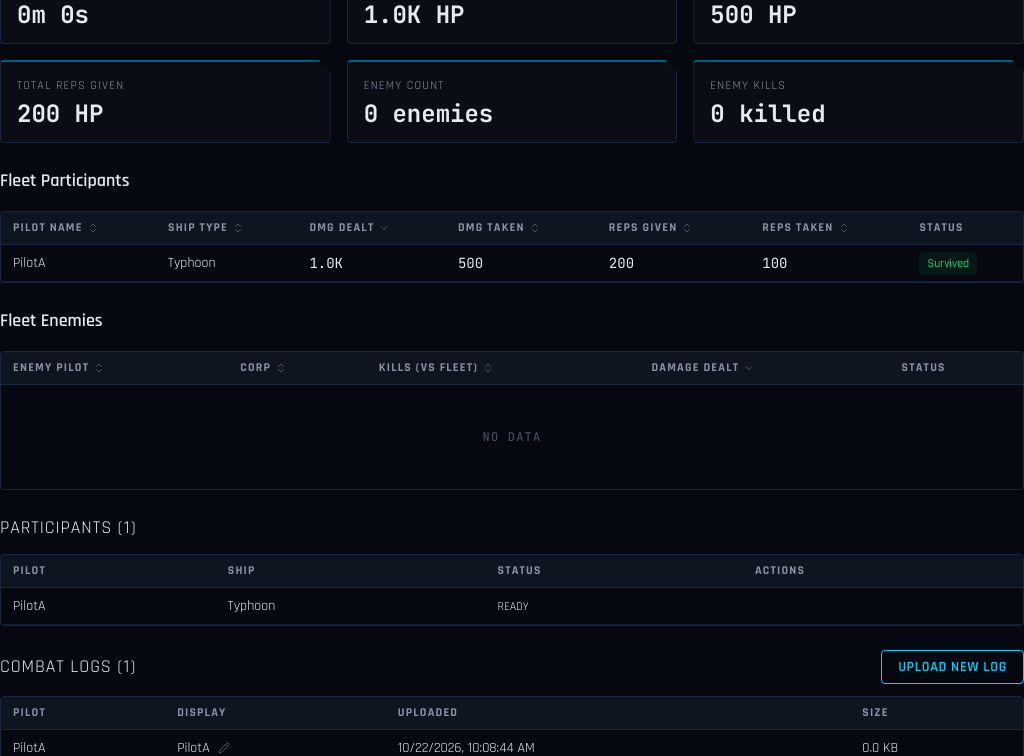
Test case: Fleet Navigation & Integration Tests › Session Detail Page Tests › shows upload form when button clicked
The image size is (1024, 756).
(page scrolled)
Click the button "Upload New Log".
click(953, 667)  # box [881, 650, 1023, 684]
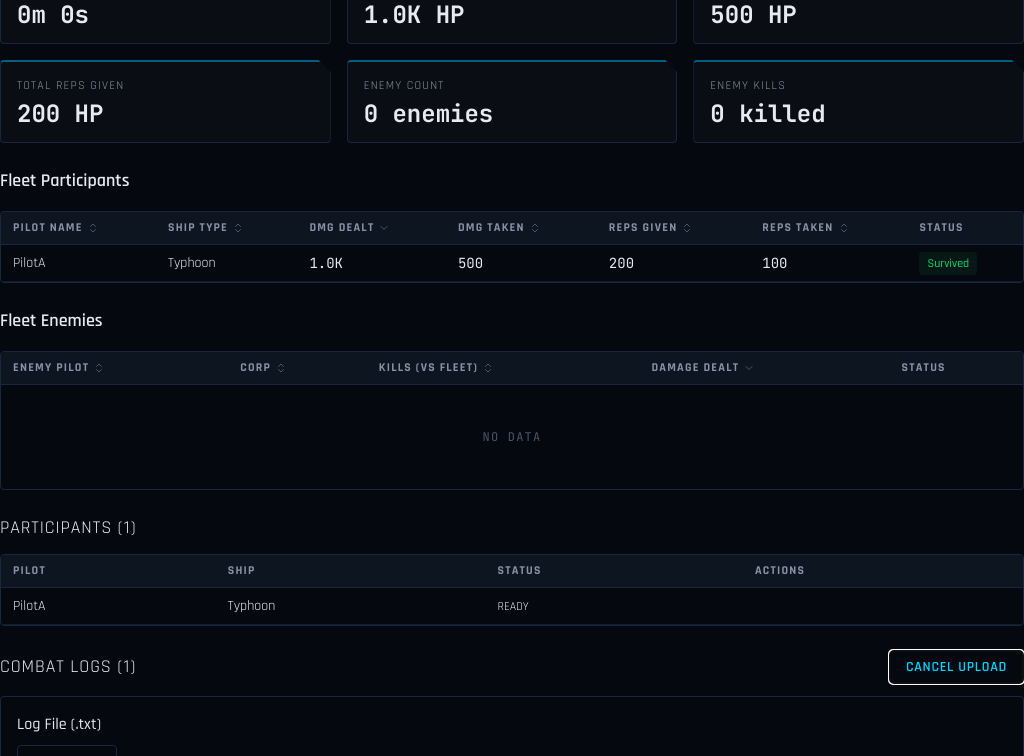
Check: the text "Log File (.txt)" is shown 2 times
